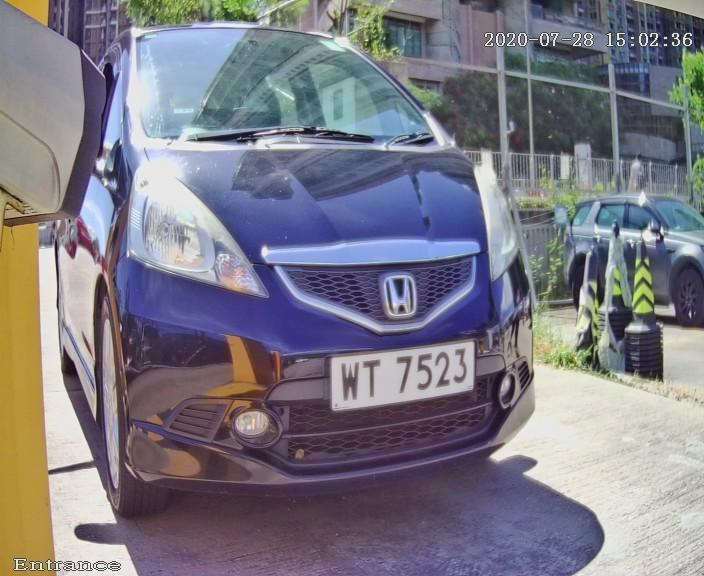privatecar: (29, 34, 601, 543)
